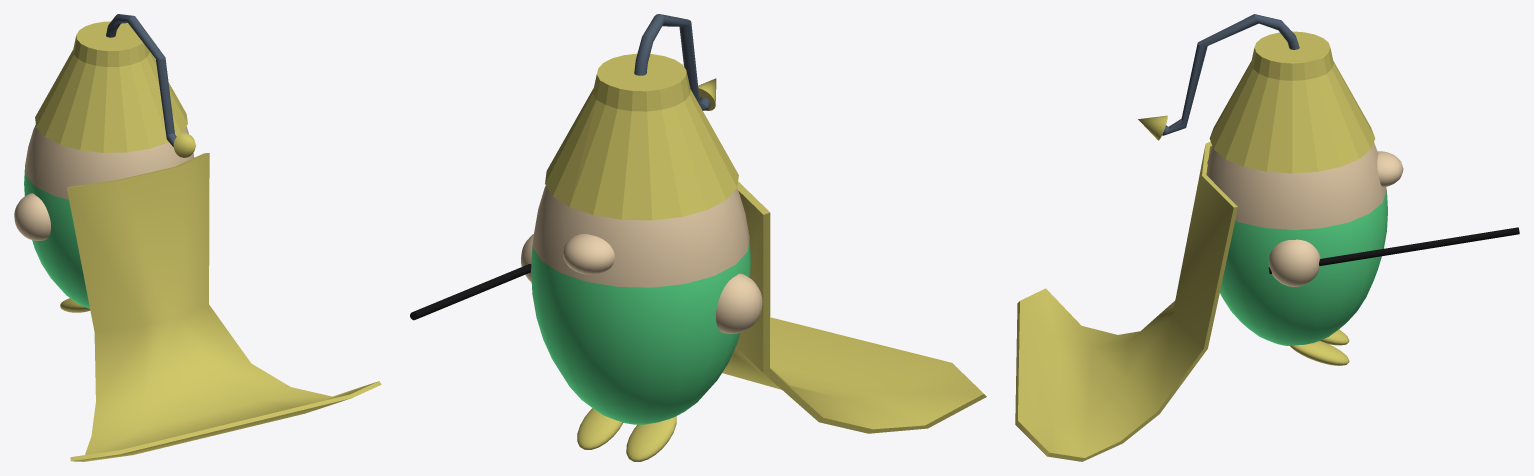
File: Wizard1.fbx
3 renders of one model, left to right at view 1: azimuth 30°, elevation 25°; view 2: azimuth 150°, elevation 25°; view 3: azimuth 270°, elevation 25°, orthographic. The views are drawn at different scales.
Visible parts, largest first — view 1: pCube1, pCone1, pSphere2, pCylinder21, pSphere4, pCone2; view 2: pSphere2, pCone1, pCube1, pSphere4, pCylinder21, pSphere27, pSphere29, pSphere28, pCylinder22; view 3: pCube1, pSphere2, pCone1, pCylinder21, pSphere3, pCylinder22, pSphere28, pSphere27.
Boxes of the visible parts, x1,y1,x2,y2 form: pCube1: [67, 153, 381, 461]; pCone1: [35, 21, 187, 152]; pSphere2: [24, 124, 194, 308]; pCylinder21: [106, 14, 176, 146]; pSphere4: [14, 193, 50, 240]; pCone2: [173, 133, 195, 157]; pSphere2: [531, 185, 750, 424]; pCone1: [545, 53, 738, 220]; pCube1: [722, 181, 986, 433]; pSphere4: [715, 273, 762, 333]; pCylinder21: [634, 14, 710, 110]; pSphere27: [563, 234, 614, 274]; pSphere29: [626, 416, 676, 461]; pSphere28: [577, 408, 622, 449]; pCylinder22: [410, 264, 531, 320]; pCube1: [1015, 141, 1237, 461]; pSphere2: [1206, 142, 1387, 345]; pCone1: [1209, 31, 1375, 173]; pCylinder21: [1162, 14, 1299, 135]; pSphere3: [1268, 239, 1320, 286]; pCylinder22: [1268, 227, 1519, 273]; pSphere28: [1290, 341, 1349, 365]; pSphere27: [1377, 151, 1403, 187].
Size of the model in its own units: 2.61 by 2.84 by 3.39.
